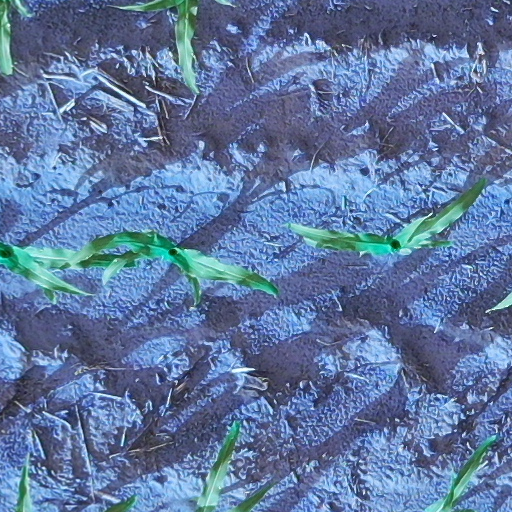planta: (62, 230, 277, 298), (288, 181, 483, 255)
